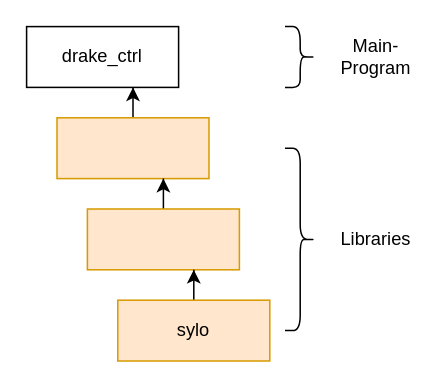
This 448x388 diagram has some shape labels left out. Here are the shapes that lost their labels. From the top down, the centre of each, then its label:
At (x=132, y=147): "sybot".
At (x=162, y=238): "syact".
